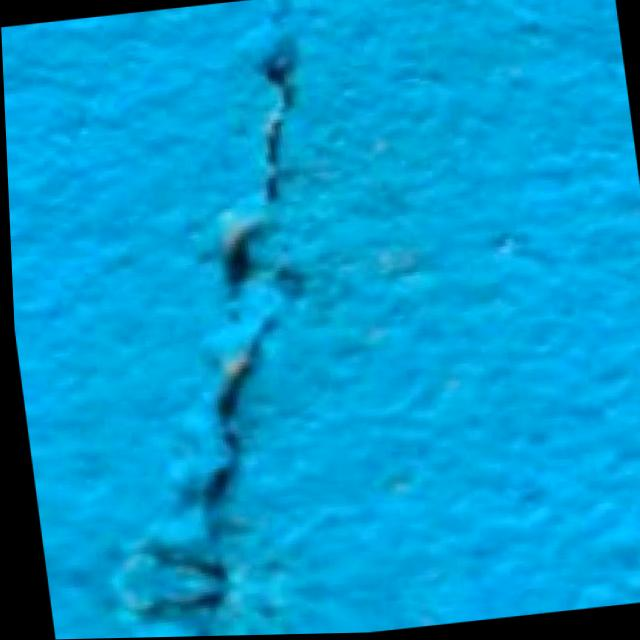Crack: (53, 0, 384, 639)
